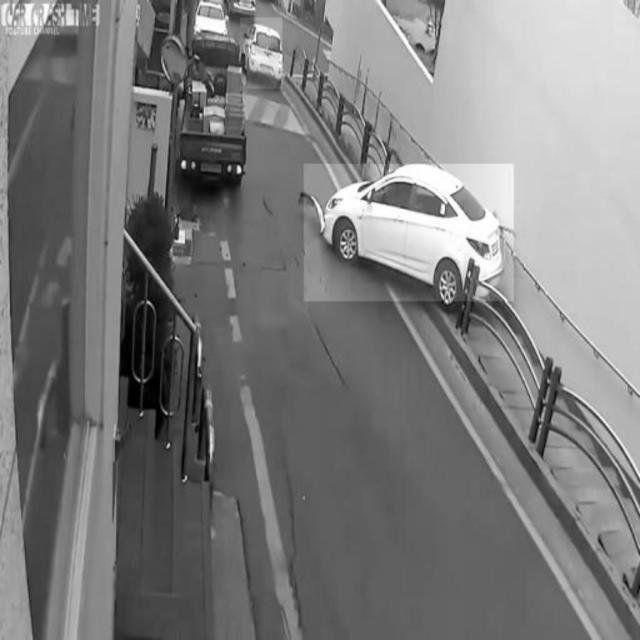accident: (304, 165, 514, 302)
vehicle: (179, 28, 247, 185), (241, 18, 283, 89)
